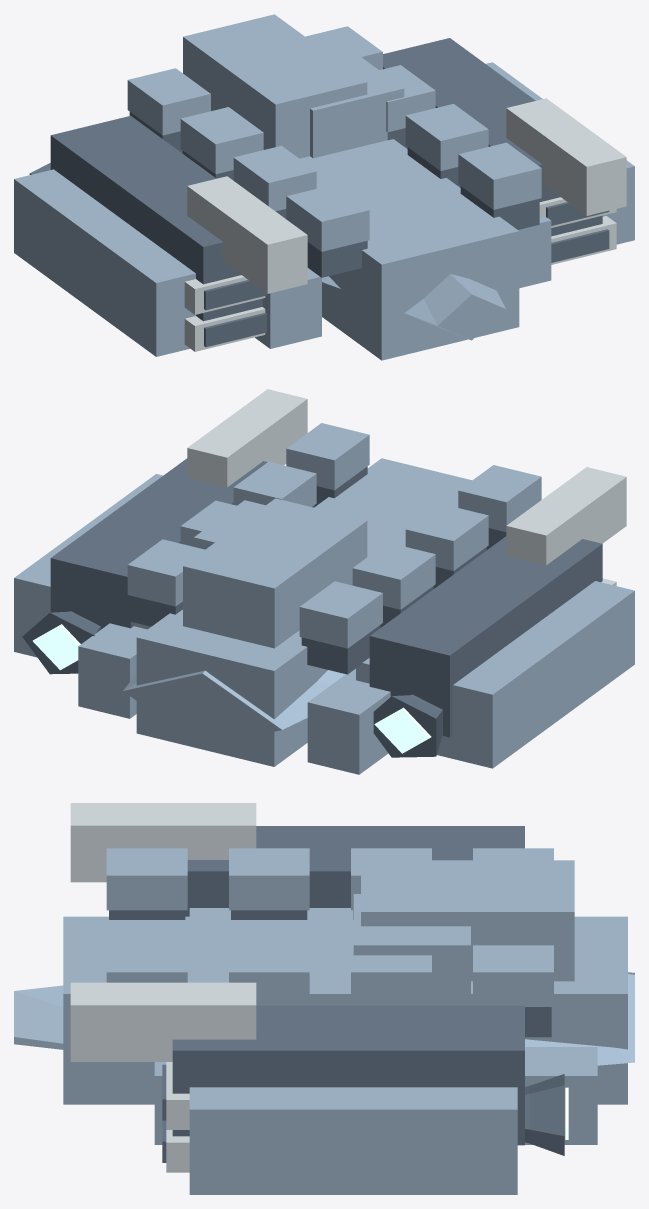
3 renders of one model, top to bottom at view 1: azimuth 30°, elevation 25°; view 2: azimuth 150°, elevation 25°; view 3: azimuth 270°, elevation 25°, orthographic. The views are drawn at different scales.
Bounding box in the file's own units: 16.7 × 5.94 × 16.27.
